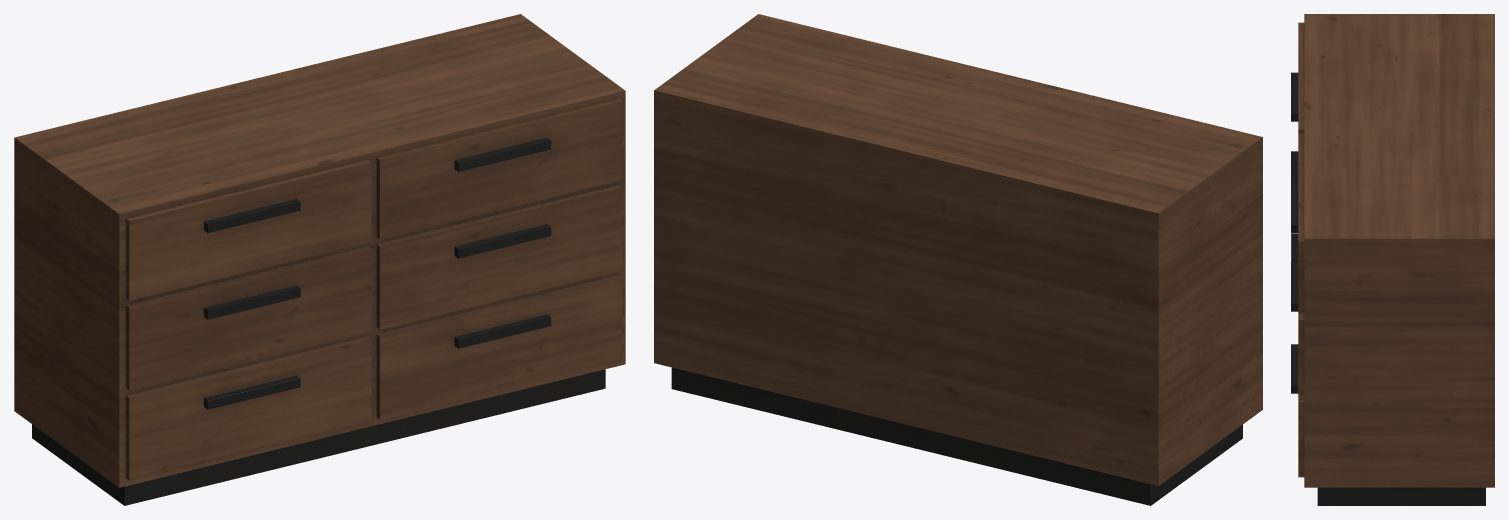
The model's file is H_Dresser.fbx.
The picture shows the model from 3 angles, left to right: view 1: azimuth 30°, elevation 25°; view 2: azimuth 150°, elevation 25°; view 3: azimuth 270°, elevation 25°; orthographic projection. The views are drawn at different scales.
Visible parts, largest first — view 1: H_Dresser; view 2: H_Dresser; view 3: H_Dresser.
Part boxes in pixels (x1=…): H_Dresser: x1=14, y1=14, x2=625, y2=505; H_Dresser: x1=654, y1=14, x2=1262, y2=505; H_Dresser: x1=1291, y1=14, x2=1494, y2=505.
Bounding box in the file's own units: 600 × 340 × 230.
1 material, 1 textured.
